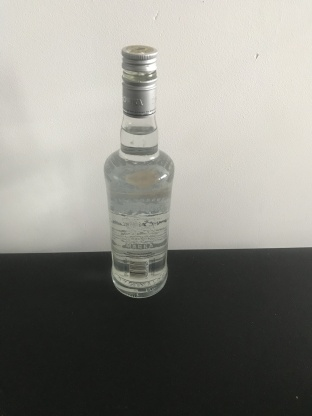nakretka: (120, 44, 159, 119)
